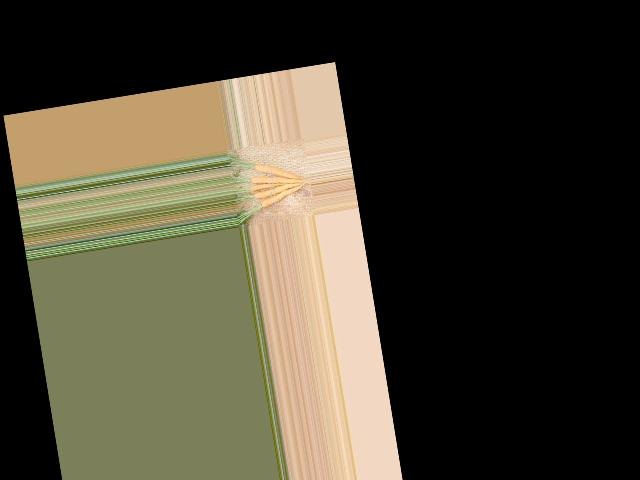carrot: (258, 185, 303, 208)
